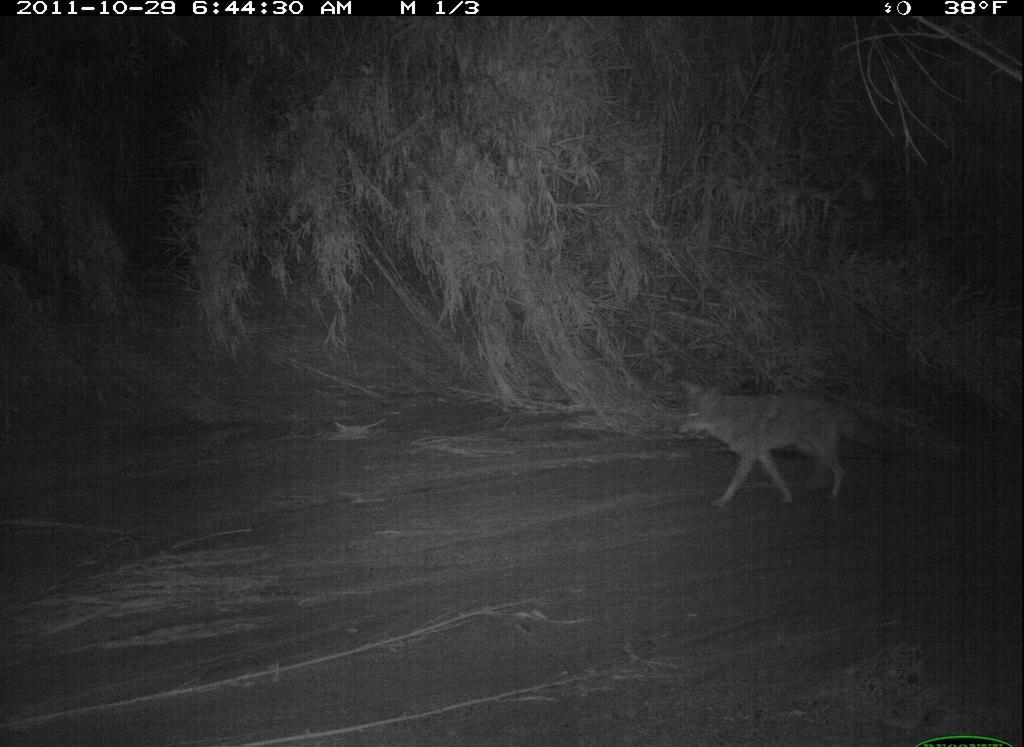coyote: (666, 372, 909, 516)
